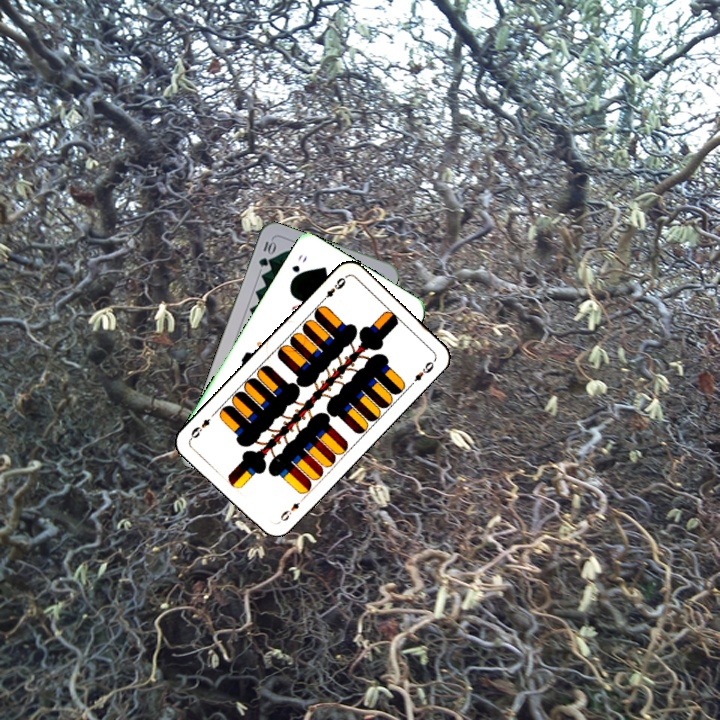E9: (317, 273, 348, 305), (275, 498, 302, 525)
G10: (254, 236, 278, 270)
GO: (287, 251, 310, 285)
